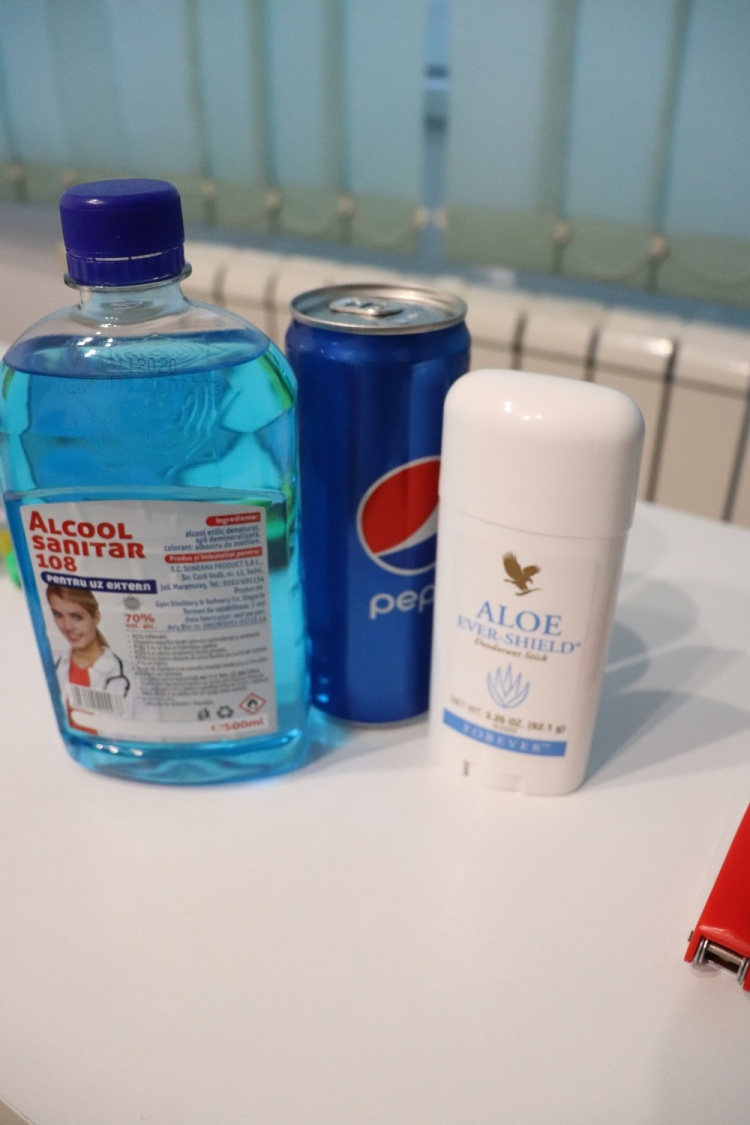pepsi: (277, 277, 441, 744)
